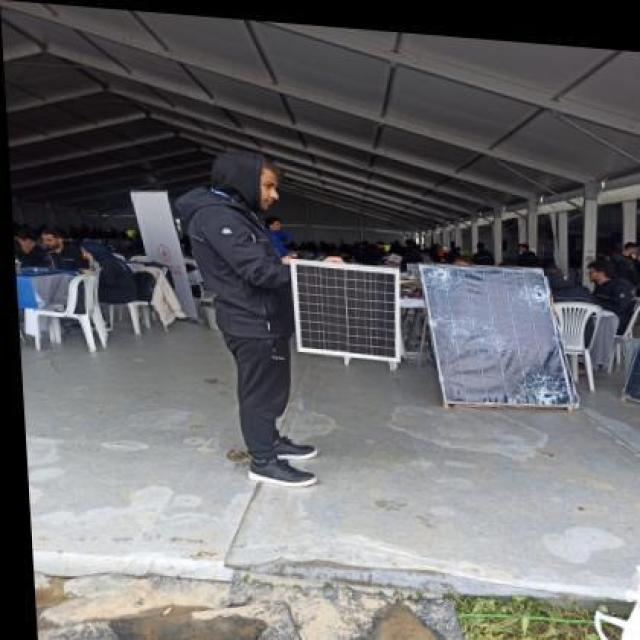cracked: (423, 256, 582, 414)
